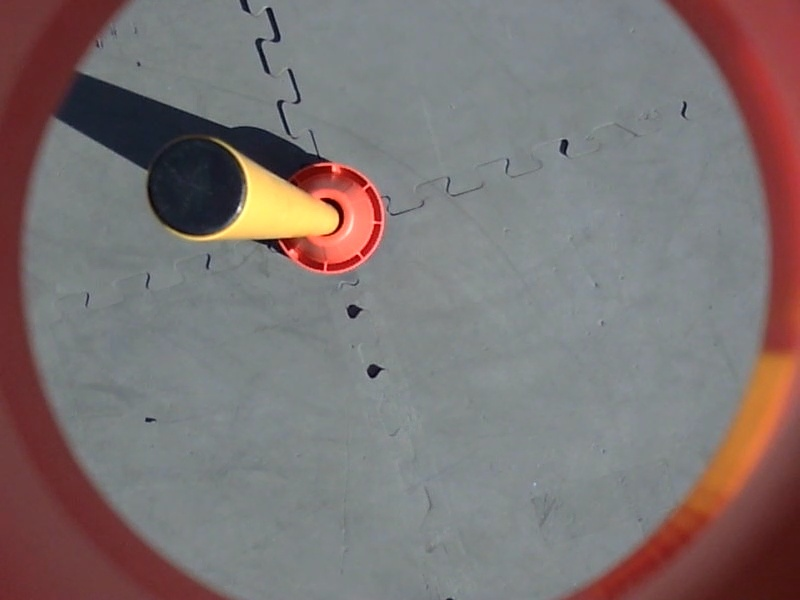tip: (143, 131, 259, 245)
